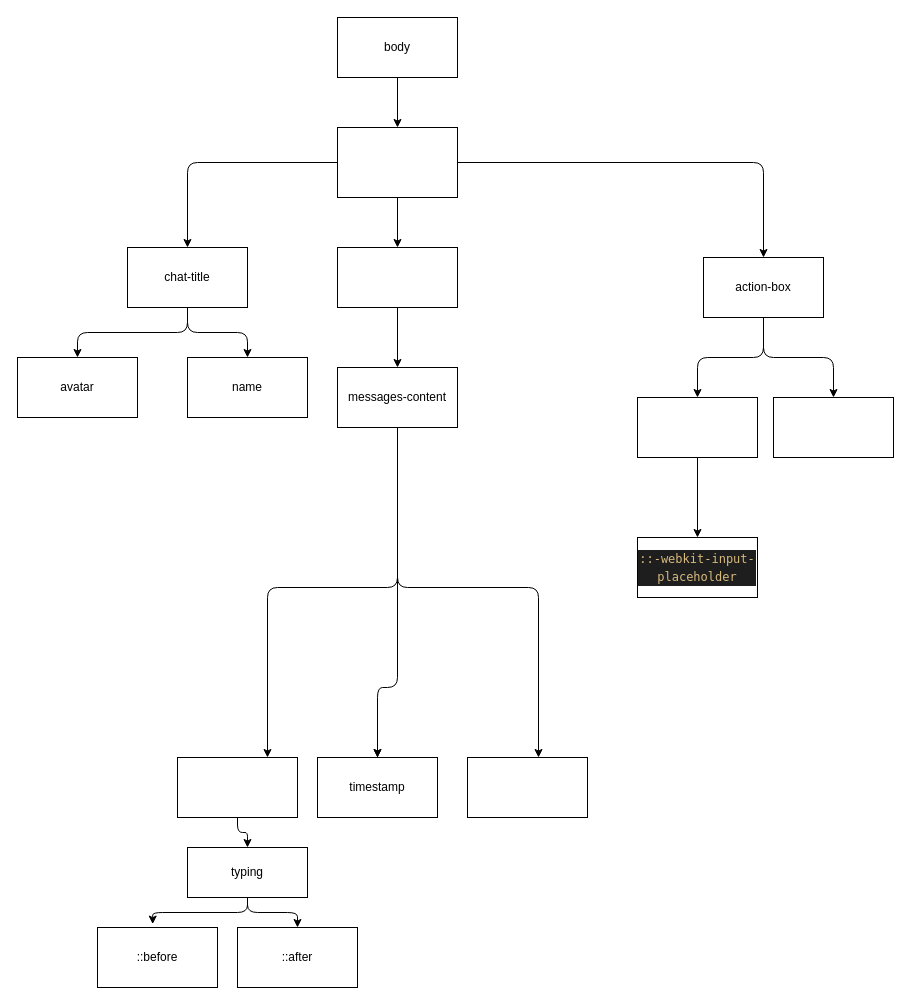
Some shapes in this 911 by 1005 pixel diagram are drawn without their labels. The shapes that lost their labels are listed below. From the top down, each one's centre as x and y in pixels, then its label:
At point 397,162: "chat".
At point 397,277: "messages".
At point 697,427: "action-box-input".
At point 833,427: "action-box-submit".
At point 237,787: "message".
At point 527,787: "personal".
